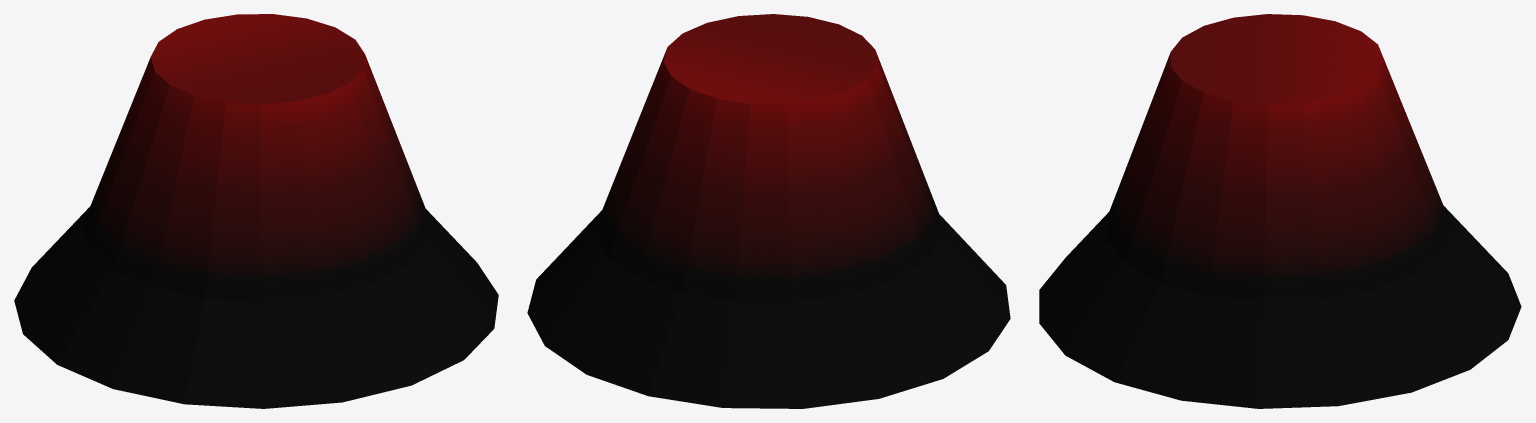
File: chicken_acc_buckethat.fbx
3 views of the same model, side by side, from view 1: azimuth 30°, elevation 25°; view 2: azimuth 150°, elevation 25°; view 3: azimuth 270°, elevation 25° (orthographic).
Parts seen in each view (by area): view 1: Cylinder; view 2: Cylinder; view 3: Cylinder.
Boxes of the visible parts, bbox=[...] form: Cylinder: bbox=[14, 14, 498, 408]; Cylinder: bbox=[527, 14, 1010, 408]; Cylinder: bbox=[1039, 14, 1521, 408].
Bounding box in the file's own units: 278 × 157 × 277.
